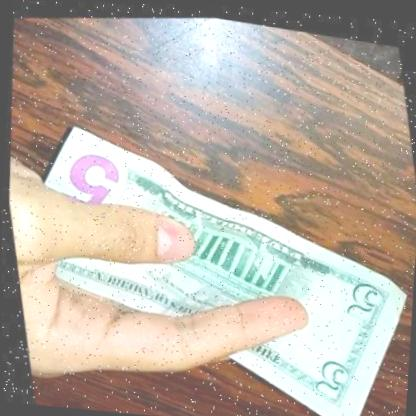five-back: (7, 74, 416, 416)
